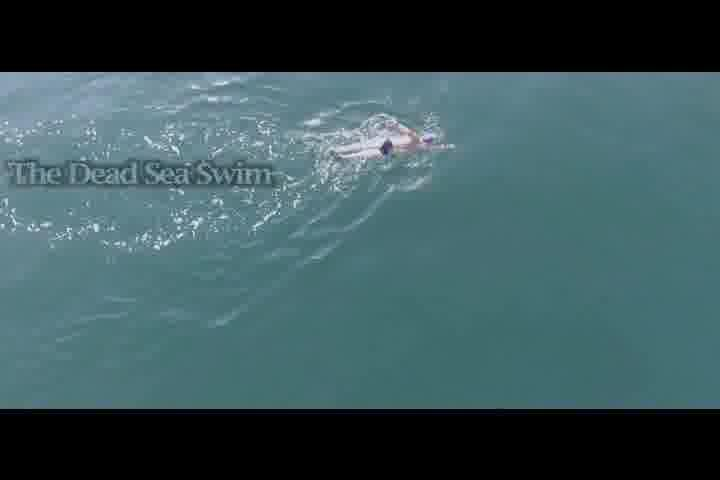swimmer: (332, 118, 457, 165)
